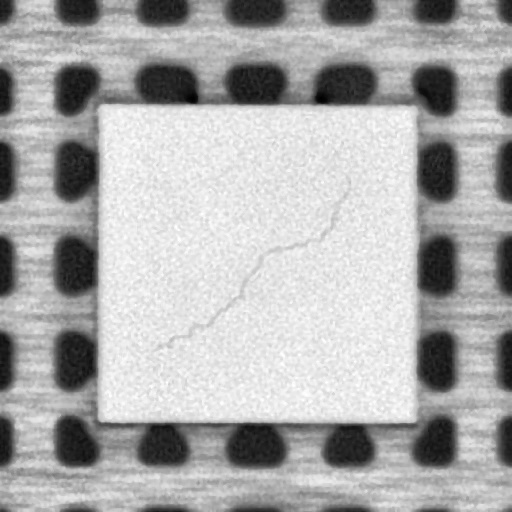DIE_CRACK: (153, 174, 351, 350)
